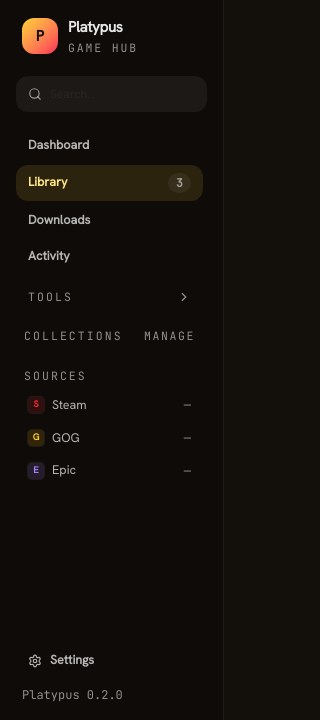
Test: shell navigation variants › sidebar mode is the Sidebar of today: region, nav, Settings and Plugins
Expected: the button "Settings" is shown, [16,643,207,678]
Click the button "Tools": x=110, y=297 [16,282,203,311]
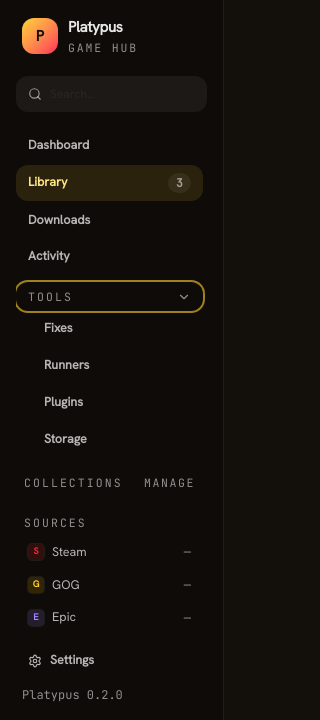
Result: the button "Plugins" is shown at [16,385,203,420]
